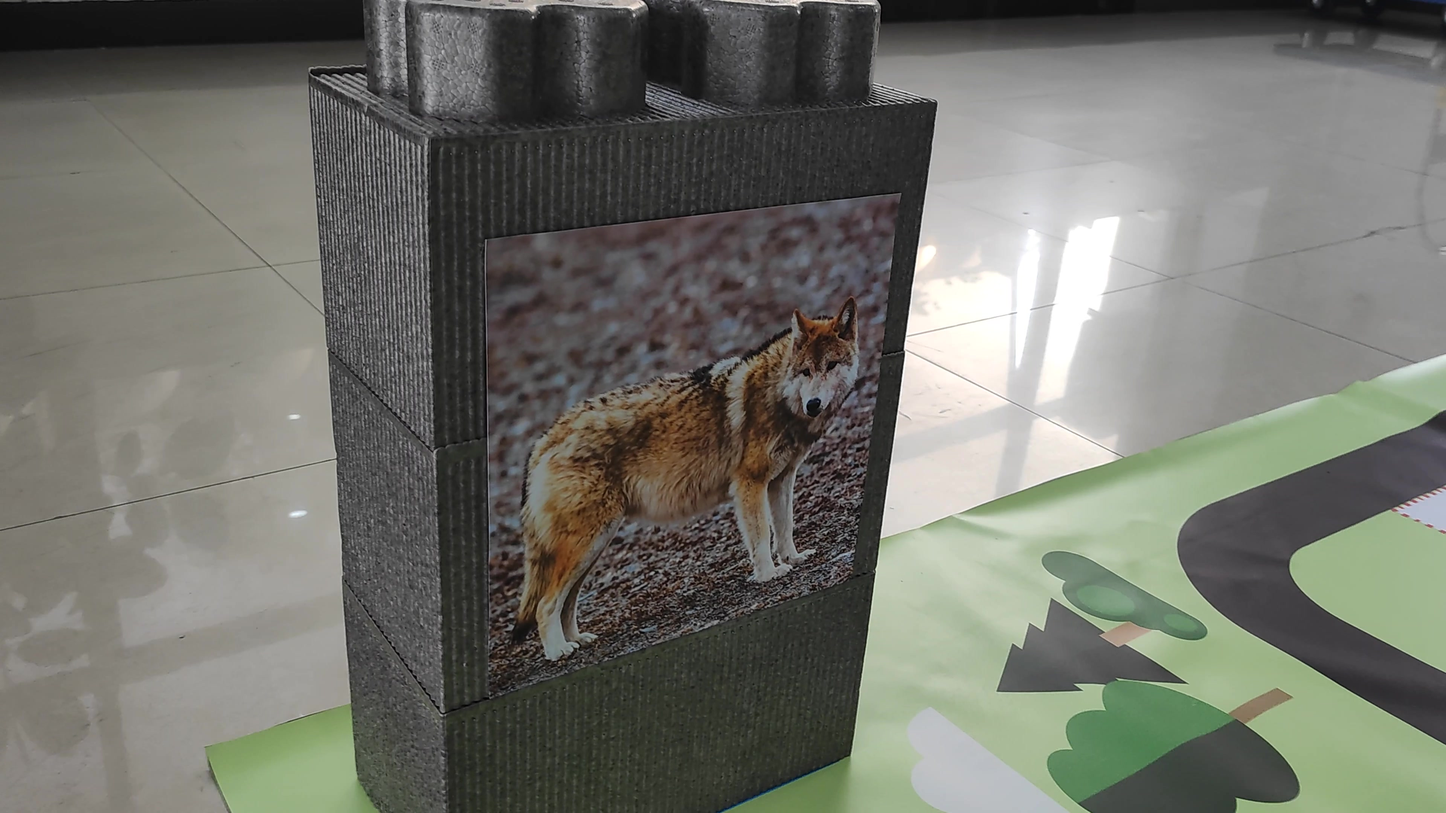wolf: (497, 227, 867, 653)
